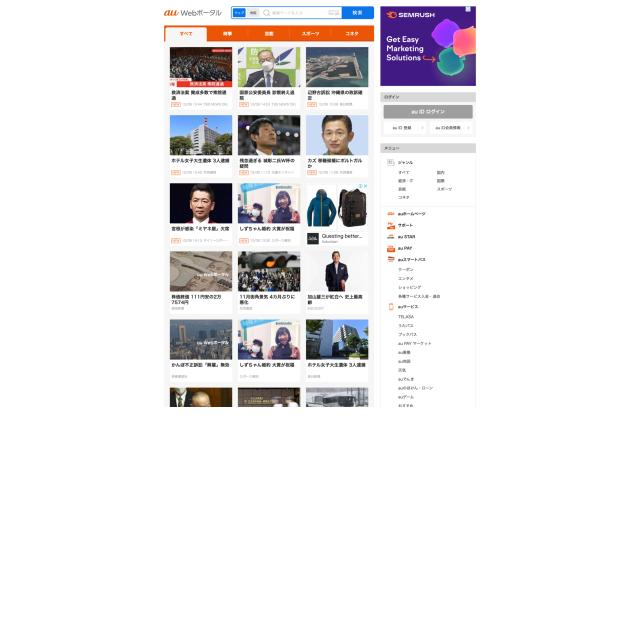content: (164, 42, 373, 408)
logo: (162, 7, 225, 19)
navigation: (384, 209, 444, 411)
